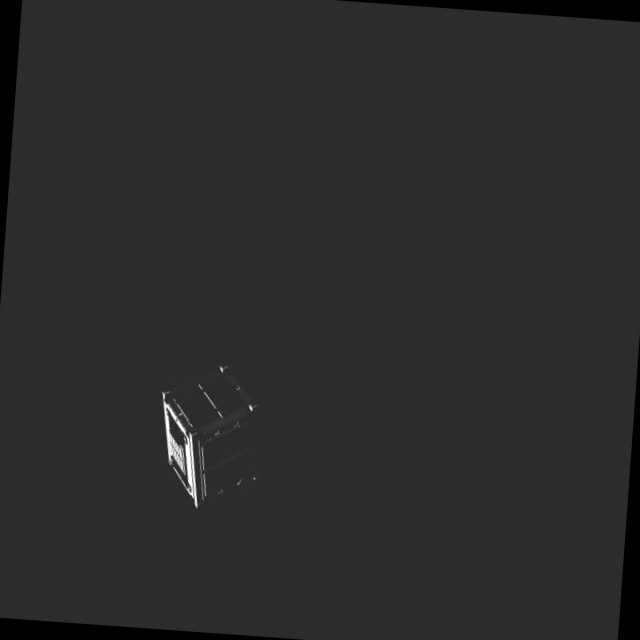satellite: (155, 359, 278, 516)
